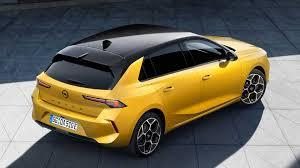opel: (58, 88, 70, 101)
